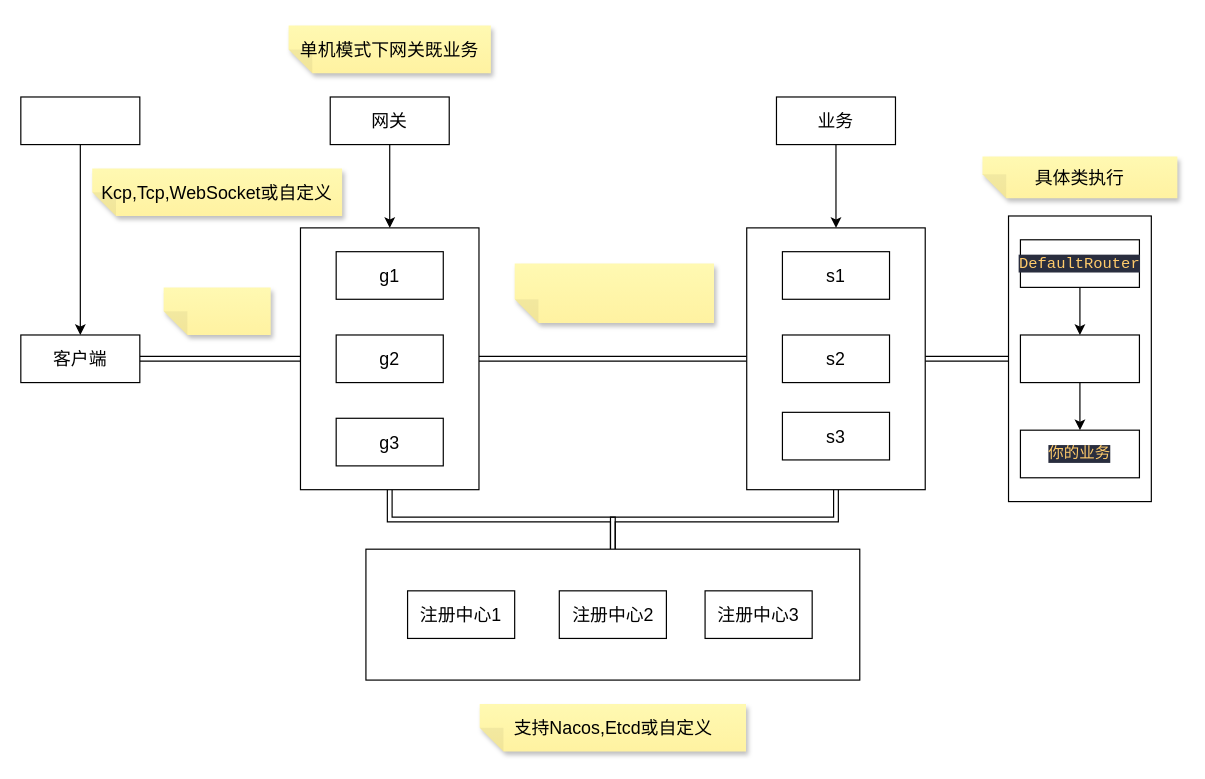
The diagram is 1205 pixels wide and 779 high, and some of its shapes have lost their labels. Here are the shapes that lost their labels. From the top down, the centre of each, then its label:
(80,120): 用户
(217,312): 异步通信
(615,294): 异步Grpc调用或自定义
(1079,358): 中间件
